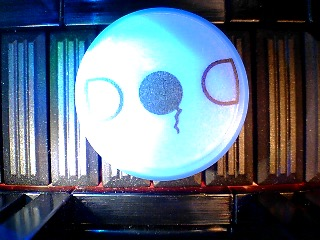CRACK: (73, 7, 249, 181)
